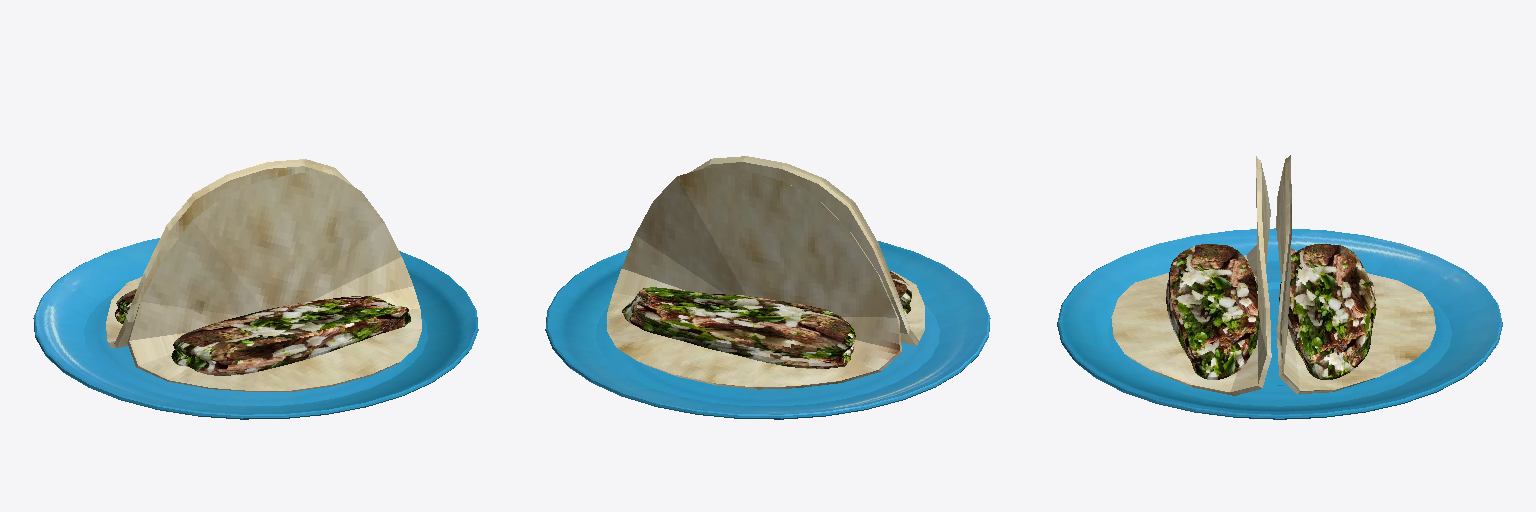
3 views of the same model, side by side, from view 1: azimuth 30°, elevation 25°; view 2: azimuth 150°, elevation 25°; view 3: azimuth 270°, elevation 25° (orthographic).
Parts seen in each view (by area): view 1: tacos; view 2: tacos; view 3: tacos.
Boxes of the visible parts, box(x1,y1,x2,y2) form: tacos: box(33, 159, 478, 419); tacos: box(545, 156, 990, 419); tacos: box(1057, 155, 1502, 419).
Size of the model in its own units: 2.28 by 0.9656 by 2.28.
1 materials, 1 textured.